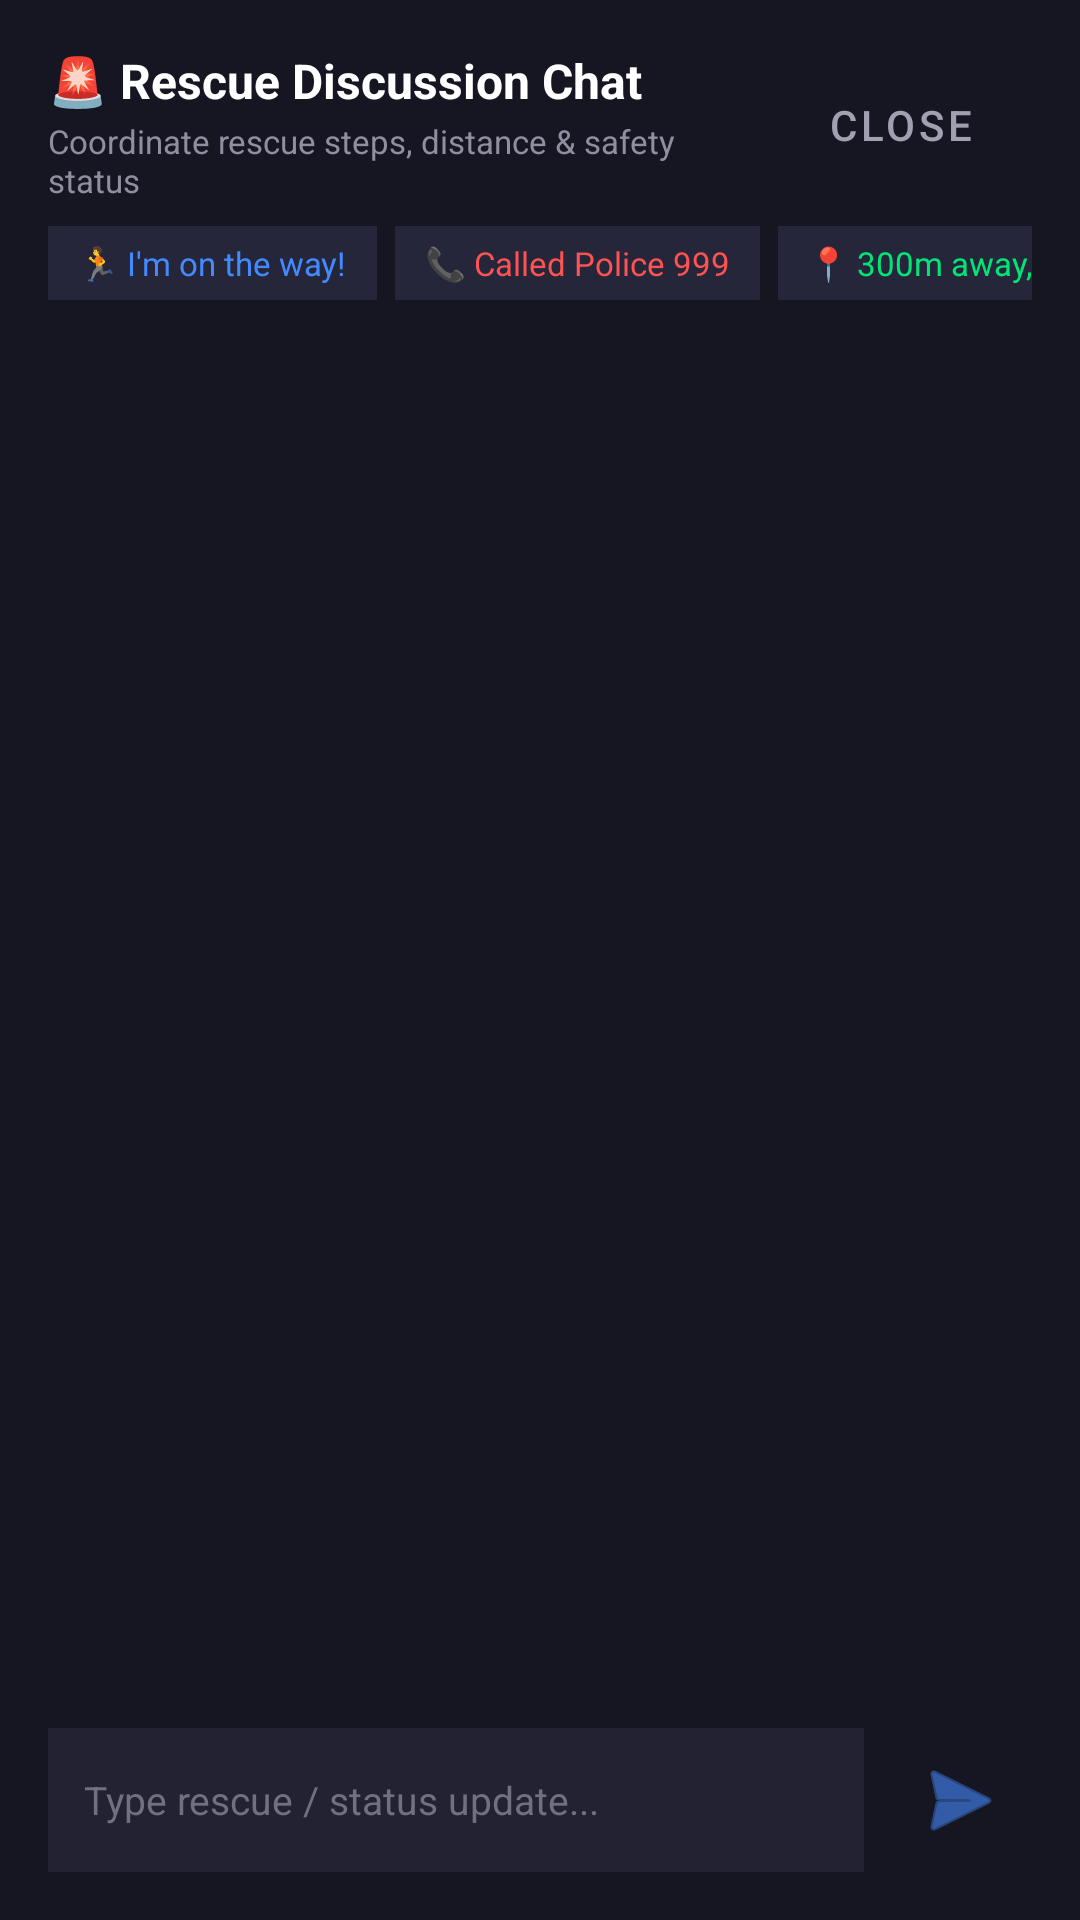

Icons on this 1080px×1920px Android screen, each with the point to tap as [x,y]:
send: [961,1800]
